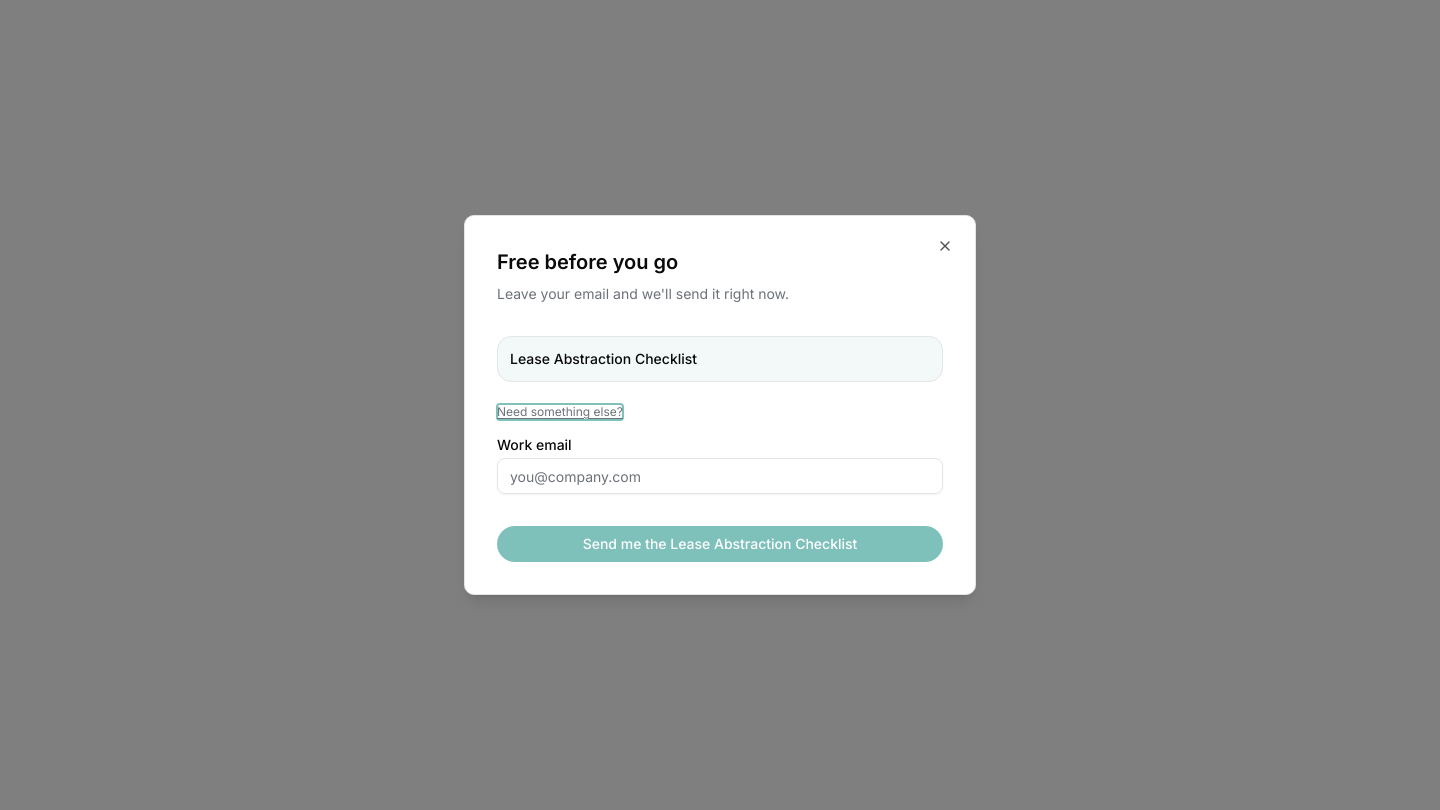
it: ExitPopup › Form submission › shows the success state with correct copy and Download Now link
The image size is (1440, 810).
Type "user@test.com" into the field labelled "Work email".
click(720, 476); type("user@test.com")  # box [497,458,943,494]
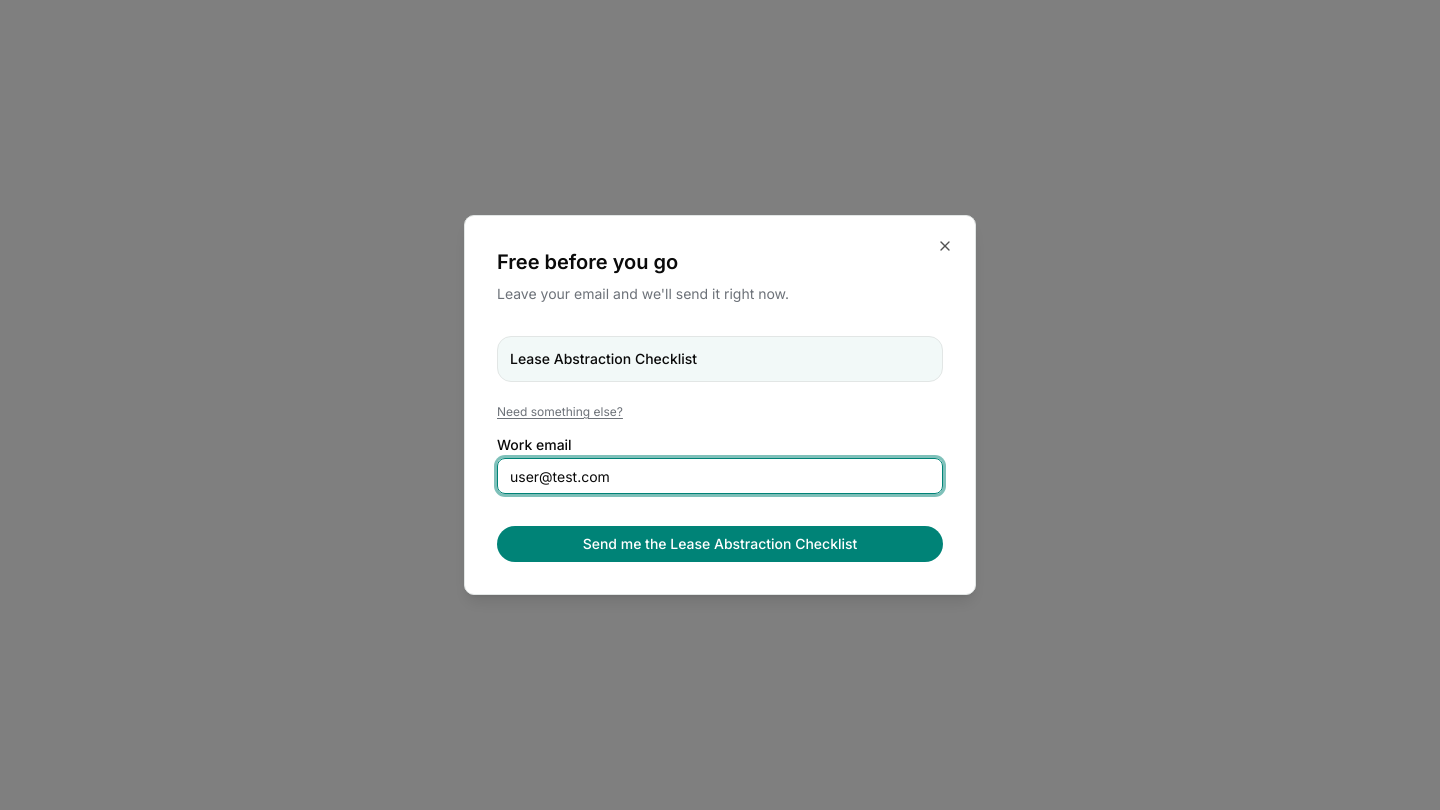
Click the button "Send me the Lease Abstraction Checklist".
click(720, 544)  # box [497,526,943,562]
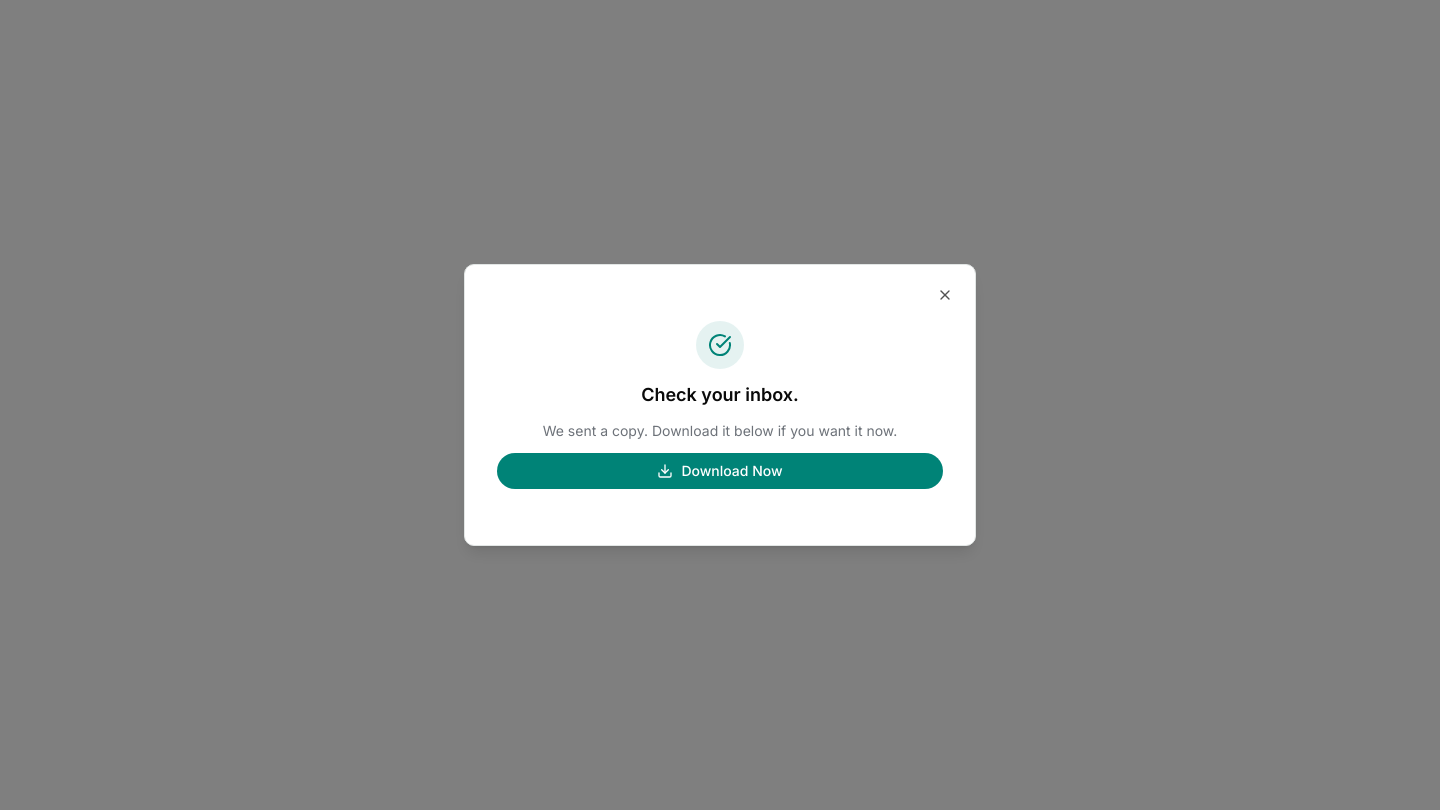
Expected: the text "Check your inbox." is shown, [641,381,799,409]
Expected: the text "We sent a copy. Download it below if you want it now." is shown, [543,421,897,441]
